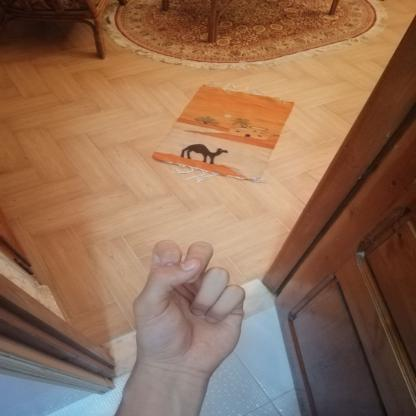QAAF: (112, 234, 268, 385)
